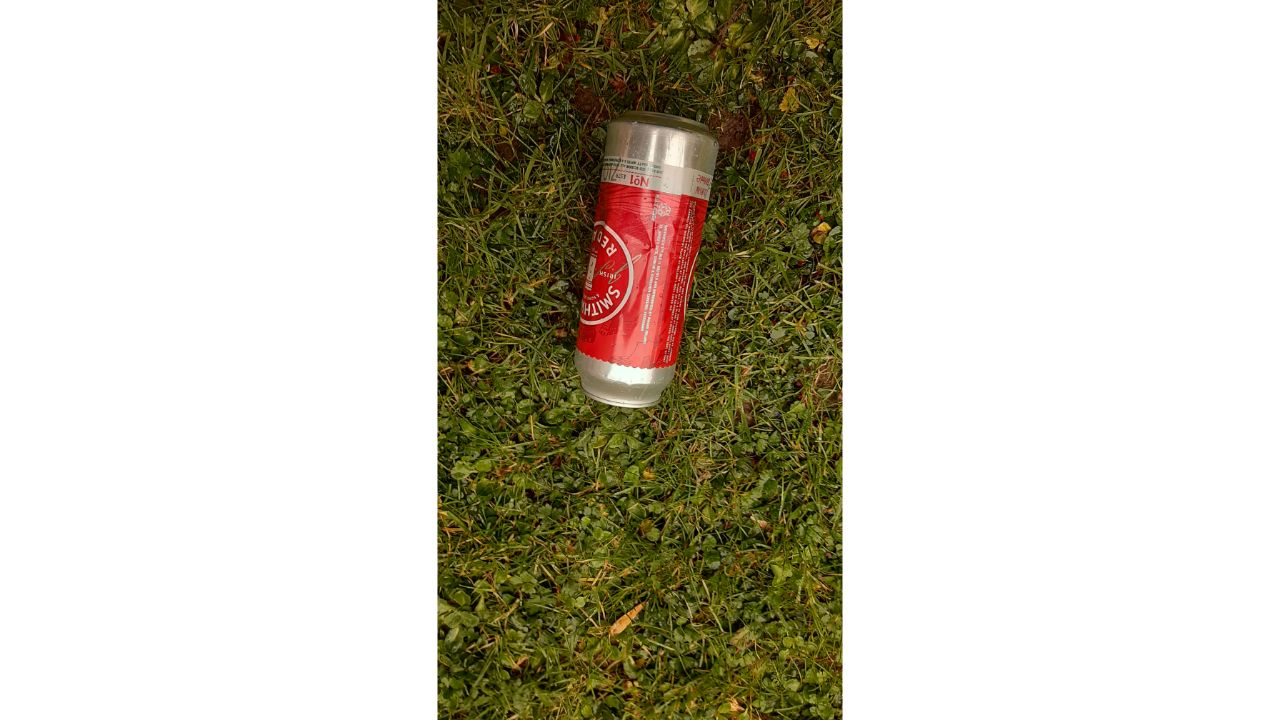Can: (573, 111, 720, 407)
